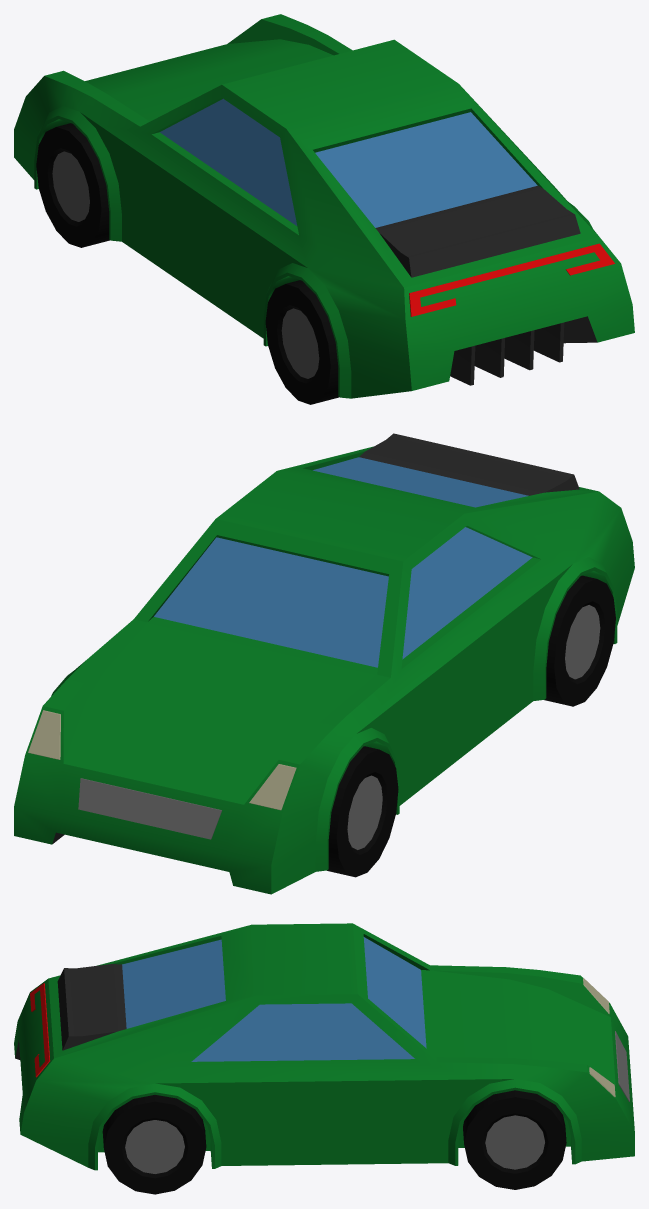
File: porch.obj
3 views of the same model, one above another, from view 1: azimuth 30°, elevation 25°; view 2: azimuth 150°, elevation 25°; view 3: azimuth 270°, elevation 25° (orthographic). The views are drawn at different scales.
Parts seen in each view (by area): view 1: car-parsche-sport-green_Cube.867_windows; view 2: car-parsche-sport-green_Cube.867_windows; view 3: car-parsche-sport-green_Cube.867_windows.
Part boxes in pixels (box(x1,y1,x2,y2)): car-parsche-sport-green_Cube.867_windows: box(14, 14, 634, 404); car-parsche-sport-green_Cube.867_windows: box(14, 433, 634, 894); car-parsche-sport-green_Cube.867_windows: box(14, 923, 634, 1194).
Size of the model in its own units: 505 by 343 by 1099.
